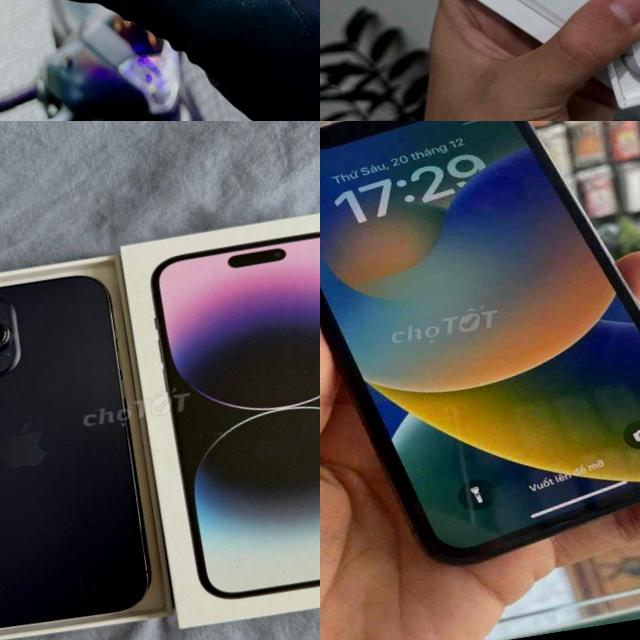gen_12_13: (0, 0, 320, 61)
gen_14: (0, 262, 170, 640)
gen_17: (519, 0, 640, 103)
gen_x_xs: (320, 121, 640, 588)
